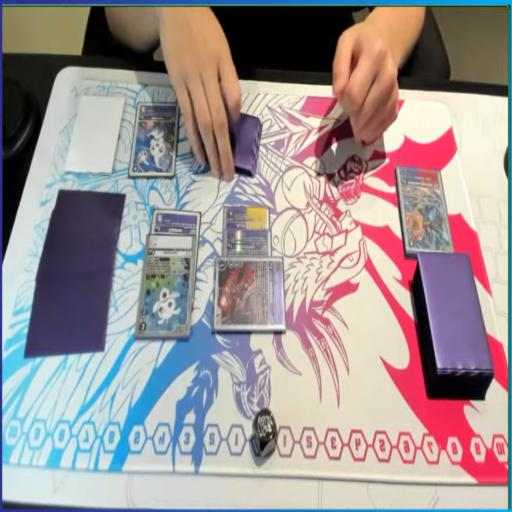card: (134, 233, 196, 340), (214, 258, 286, 334), (396, 167, 451, 256), (128, 101, 182, 178), (151, 208, 200, 240), (222, 202, 272, 232), (222, 231, 272, 258)
